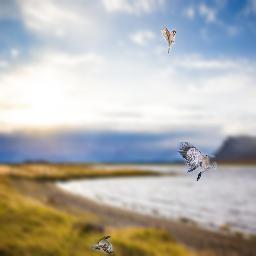Sparrow: (161, 21, 176, 53), (89, 236, 113, 254)
Woodpecker: (177, 142, 217, 181)
